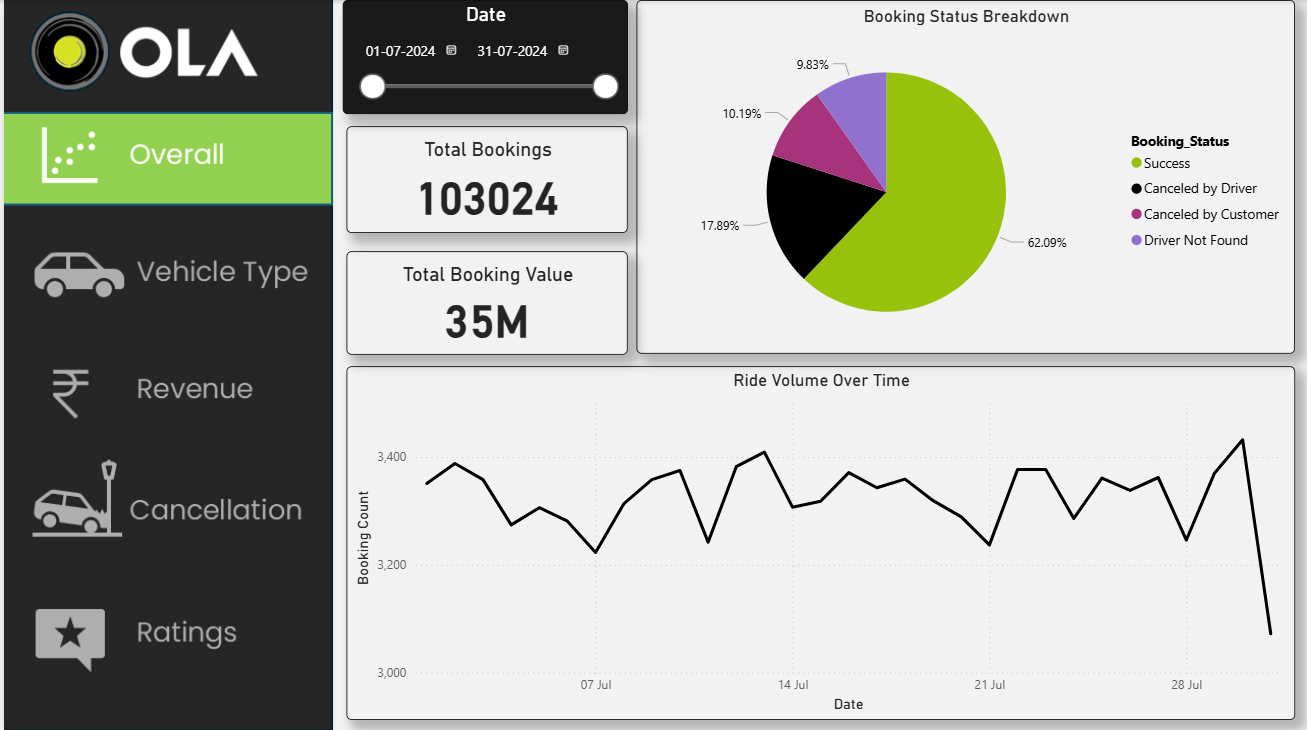

This screenshot's page, from the dashboard's own definition file:
{"tool":"powerbi","page":{"name":"Overall","canvas":[1280,720],"ordinal":0},"visuals":[{"type":"actionButton","box":[0,203.7,321.5,130.1],"z":0},{"type":"actionButton","box":[0,333.7,321.5,105.5],"z":1000},{"type":"actionButton","box":[0,439.3,321.5,132.5],"z":2000},{"type":"actionButton","box":[0,571.8,321.5,132.5],"z":3000},{"type":"card","title":"Total Bookings","fields":{"Values":["CountNonNull(Bookings.Booking_Status)"]},"box":[336.2,123.8,276.2,105],"z":4000},{"type":"card","title":"Total Booking Value","fields":{"Values":["Sum(Bookings.Booking_Value)"]},"box":[336.2,246.2,276.2,101.2],"z":5000},{"type":"lineChart","title":"Ride Volume Over Time","fields":{"Y":["CountNonNull(Bookings.Booking_Status)"],"Category":["Bookings.Date"]},"box":[336.2,360,931.2,347.5],"z":6000},{"type":"pieChart","title":"Booking Status Breakdown","fields":{"Category":["Bookings.Booking_Status"],"Y":["CountNonNull(Bookings.Booking_Status)"]},"box":[621.2,0,646.2,347.5],"z":7000},{"type":"slicer","title":"Date","fields":{"Values":["Bookings.Date"]},"box":[332.5,0,279.8,111.7],"z":8000}]}

Visuals, with their boxes in screenshot pixels (x1, y1, x2, y2), scaled from the page's 1280x720 canvas onto the 1307x730 screenshot:
actionButton: BBox(0, 207, 328, 338)
actionButton: BBox(0, 338, 328, 445)
actionButton: BBox(0, 445, 328, 580)
actionButton: BBox(0, 580, 328, 714)
"Total Bookings" card: BBox(343, 126, 625, 232)
"Total Booking Value" card: BBox(343, 250, 625, 352)
"Ride Volume Over Time" lineChart: BBox(343, 365, 1294, 717)
"Booking Status Breakdown" pieChart: BBox(634, 0, 1294, 352)
"Date" slicer: BBox(340, 0, 625, 113)
